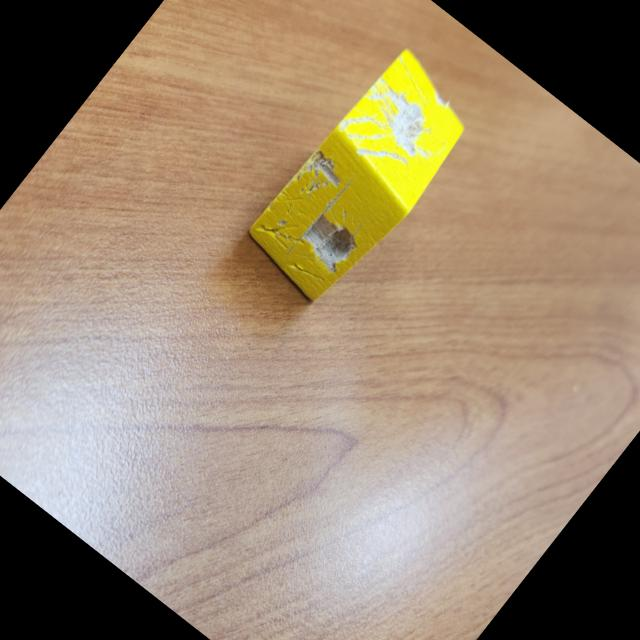broken: (235, 40, 488, 318)
